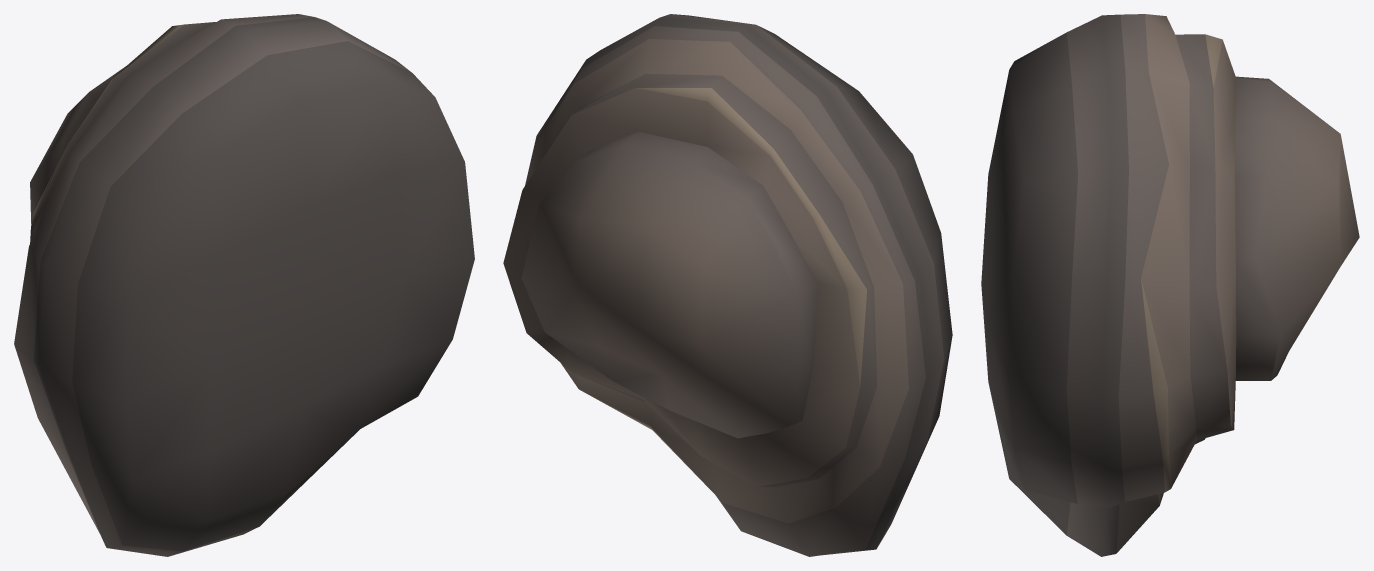
File: LayeredRock.002.glb
The picture shows the model from 3 angles, left to right: view 1: azimuth 30°, elevation 25°; view 2: azimuth 150°, elevation 25°; view 3: azimuth 270°, elevation 25°; orthographic projection. The views are drawn at different scales.
Visible parts, largest first — view 1: LayeredRock.002; view 2: LayeredRock.002; view 3: LayeredRock.002.
Part boxes in pixels (bbox=[...]): LayeredRock.002: bbox=[14, 14, 474, 556]; LayeredRock.002: bbox=[503, 14, 952, 556]; LayeredRock.002: bbox=[981, 14, 1359, 556].
Bounding box in the file's own units: 848 × 1006 × 627.
